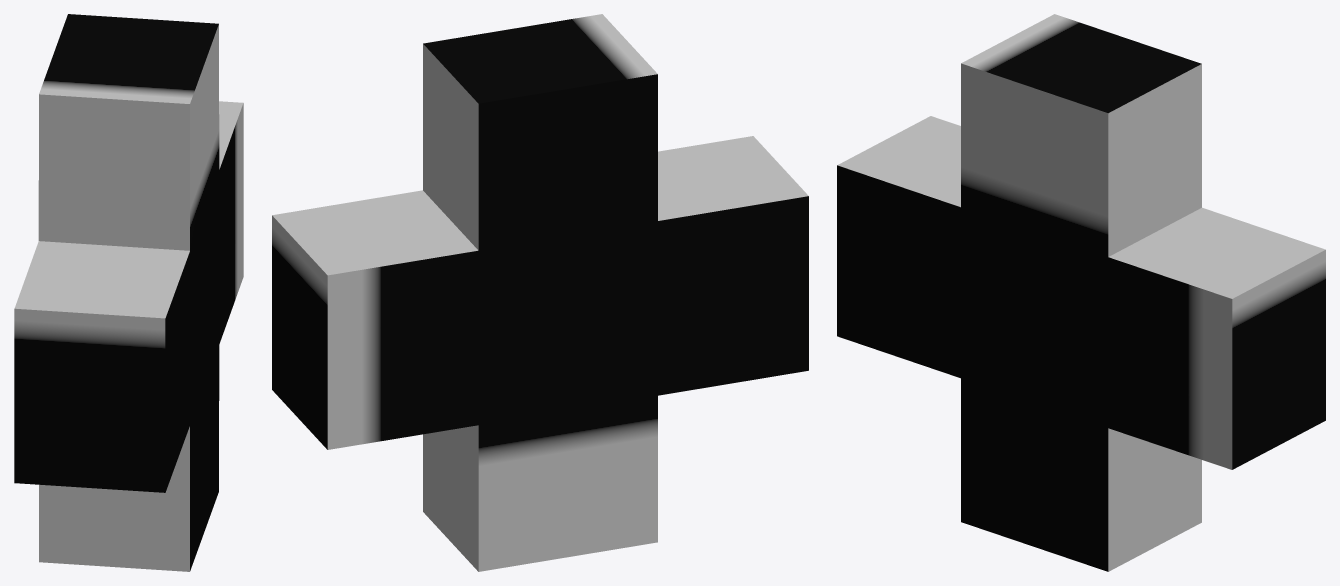
File: low_station_cross.obj
The picture shows the model from 3 angles, left to right: view 1: azimuth 30°, elevation 25°; view 2: azimuth 150°, elevation 25°; view 3: azimuth 270°, elevation 25°; orthographic projection. The views are drawn at different scales.
Visible parts, largest first — view 1: cross; view 2: cross; view 3: cross.
Part boxes in pixels (left/top/right/bottom): cross: left=14, top=14, right=243, bottom=571; cross: left=272, top=14, right=808, bottom=571; cross: left=837, top=14, right=1325, bottom=571.
Size of the model in its own units: 91.75 by 107 by 103.
Materials: 1 (1 with a texture image).
